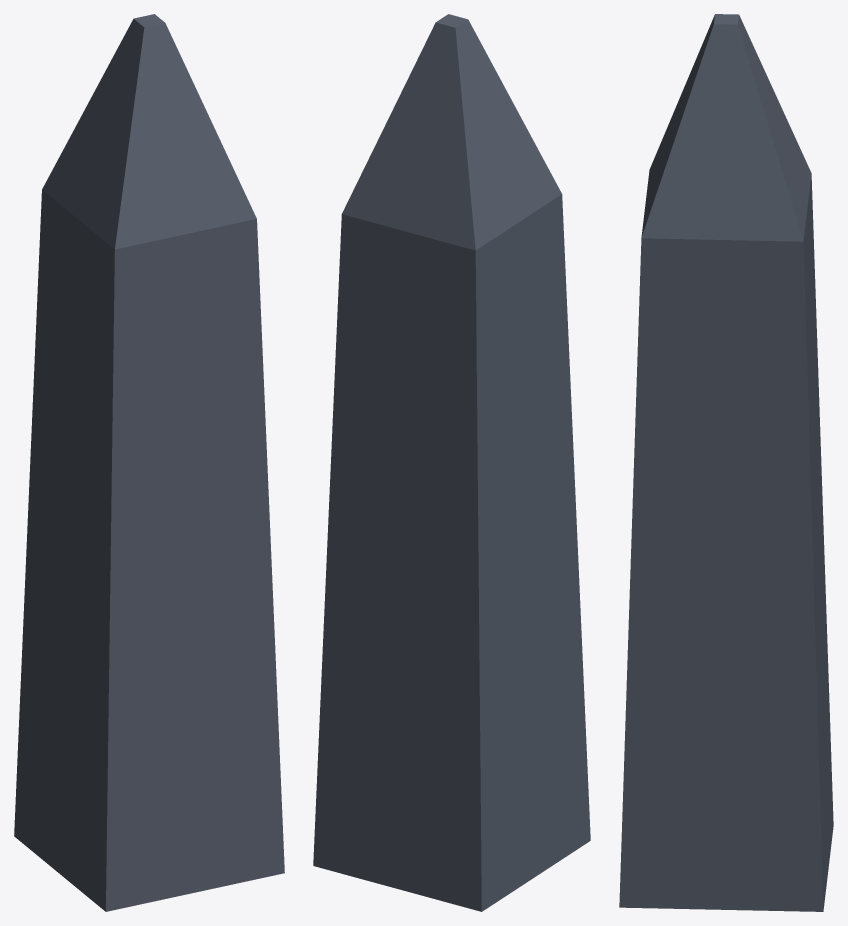
File: EXT_Obelisk_02_Body.glb
The picture shows the model from 3 angles, left to right: view 1: azimuth 30°, elevation 25°; view 2: azimuth 150°, elevation 25°; view 3: azimuth 270°, elevation 25°; orthographic projection.
Parts seen in each view (by area): view 1: EXT_Obelisk_02_Body; view 2: EXT_Obelisk_02_Body; view 3: EXT_Obelisk_02_Body.
Boxes of the visible parts, bbox=[...] form: EXT_Obelisk_02_Body: bbox=[14, 14, 284, 911]; EXT_Obelisk_02_Body: bbox=[313, 14, 590, 911]; EXT_Obelisk_02_Body: bbox=[619, 14, 833, 911].
Bounding box in the file's own units: 1.01 × 4.4 × 1.01.
